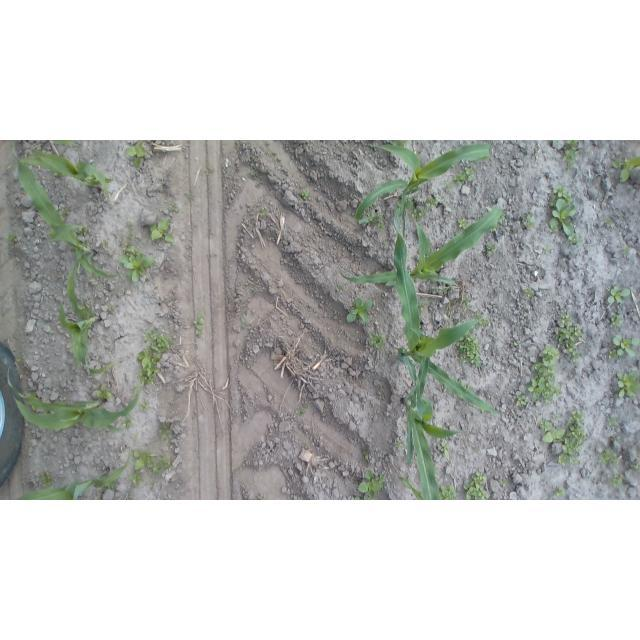Maize: (394, 192, 501, 417), (11, 140, 119, 278), (338, 203, 502, 287), (354, 141, 491, 224), (399, 356, 467, 501), (6, 366, 140, 434), (58, 255, 115, 374), (17, 449, 132, 500), (6, 148, 112, 201), (398, 476, 425, 501), (49, 141, 95, 148)
Weeds: (525, 345, 562, 404), (555, 408, 588, 466), (556, 315, 584, 361), (549, 186, 575, 235), (118, 254, 154, 283), (457, 331, 482, 368), (136, 347, 160, 385), (612, 154, 640, 182), (357, 471, 386, 498), (143, 330, 173, 356), (609, 334, 640, 358), (463, 472, 489, 500), (346, 298, 372, 324), (617, 370, 640, 398), (150, 218, 175, 242), (125, 141, 148, 167), (562, 141, 579, 172), (148, 455, 173, 474), (597, 447, 621, 466), (607, 286, 630, 305), (453, 167, 474, 186), (134, 449, 151, 470), (543, 428, 566, 443), (395, 200, 414, 217), (439, 485, 458, 500), (194, 312, 205, 337), (160, 421, 173, 442), (474, 312, 490, 328), (368, 333, 384, 349), (522, 213, 536, 231), (40, 472, 55, 488), (121, 243, 139, 256), (96, 385, 112, 399), (456, 380, 474, 392), (131, 471, 144, 487), (412, 209, 428, 222), (609, 474, 623, 488), (538, 418, 552, 431), (375, 212, 385, 230), (485, 241, 496, 256), (610, 315, 622, 328), (3, 233, 17, 244), (424, 198, 438, 209), (418, 300, 430, 312), (569, 234, 582, 245), (139, 399, 150, 411), (392, 140, 408, 148), (122, 417, 133, 428), (441, 441, 449, 456), (606, 417, 618, 427), (515, 395, 526, 405), (524, 288, 534, 299), (78, 223, 88, 234), (365, 212, 375, 223), (457, 219, 467, 230), (498, 212, 507, 224), (169, 202, 179, 212), (555, 488, 566, 497), (488, 224, 500, 232), (444, 308, 452, 319), (240, 317, 246, 331), (362, 447, 368, 461), (462, 298, 471, 307), (394, 442, 403, 451), (631, 463, 640, 472), (301, 189, 310, 198), (354, 496, 374, 500), (500, 478, 508, 486), (604, 219, 612, 227), (60, 208, 68, 216), (250, 169, 258, 177), (260, 209, 269, 216), (427, 286, 442, 290), (203, 167, 213, 173), (126, 230, 133, 238), (623, 246, 630, 254), (81, 239, 88, 247), (445, 181, 453, 188), (296, 410, 305, 416), (109, 305, 115, 313), (54, 170, 62, 176), (131, 433, 138, 439), (336, 285, 343, 291), (17, 357, 24, 363), (102, 240, 107, 248), (479, 407, 485, 413), (612, 437, 619, 442), (257, 496, 263, 501), (131, 386, 138, 390), (514, 342, 519, 347), (128, 222, 133, 227), (303, 404, 308, 409), (544, 247, 549, 252), (107, 484, 112, 489), (150, 482, 154, 488), (549, 140, 560, 142), (375, 271, 381, 274)
